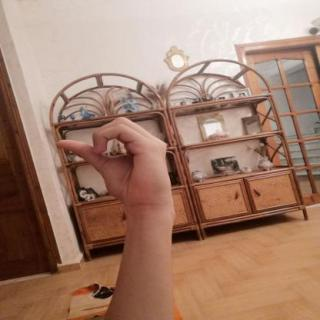WAW: (45, 110, 183, 212)
